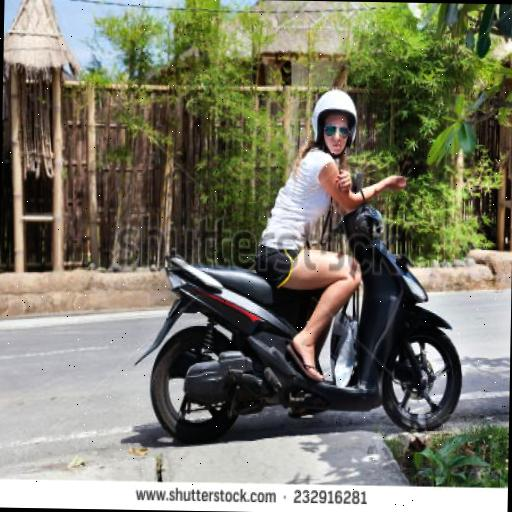helmet: (250, 57, 472, 435)
